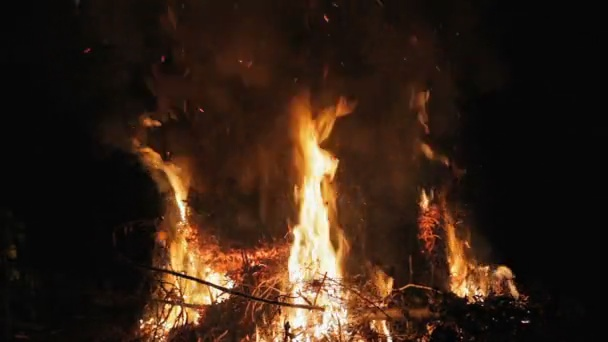fire: (148, 154, 235, 323), (289, 98, 340, 340), (446, 225, 518, 299)
